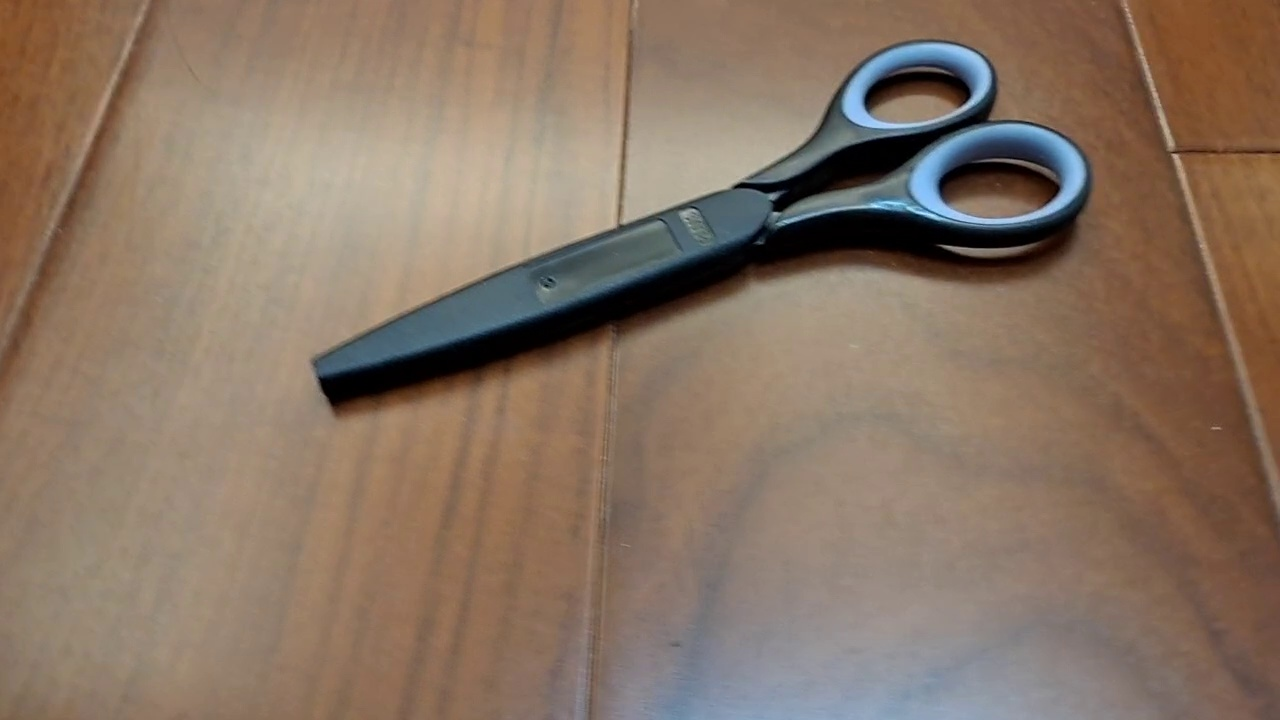scissors: (309, 36, 1095, 410)
